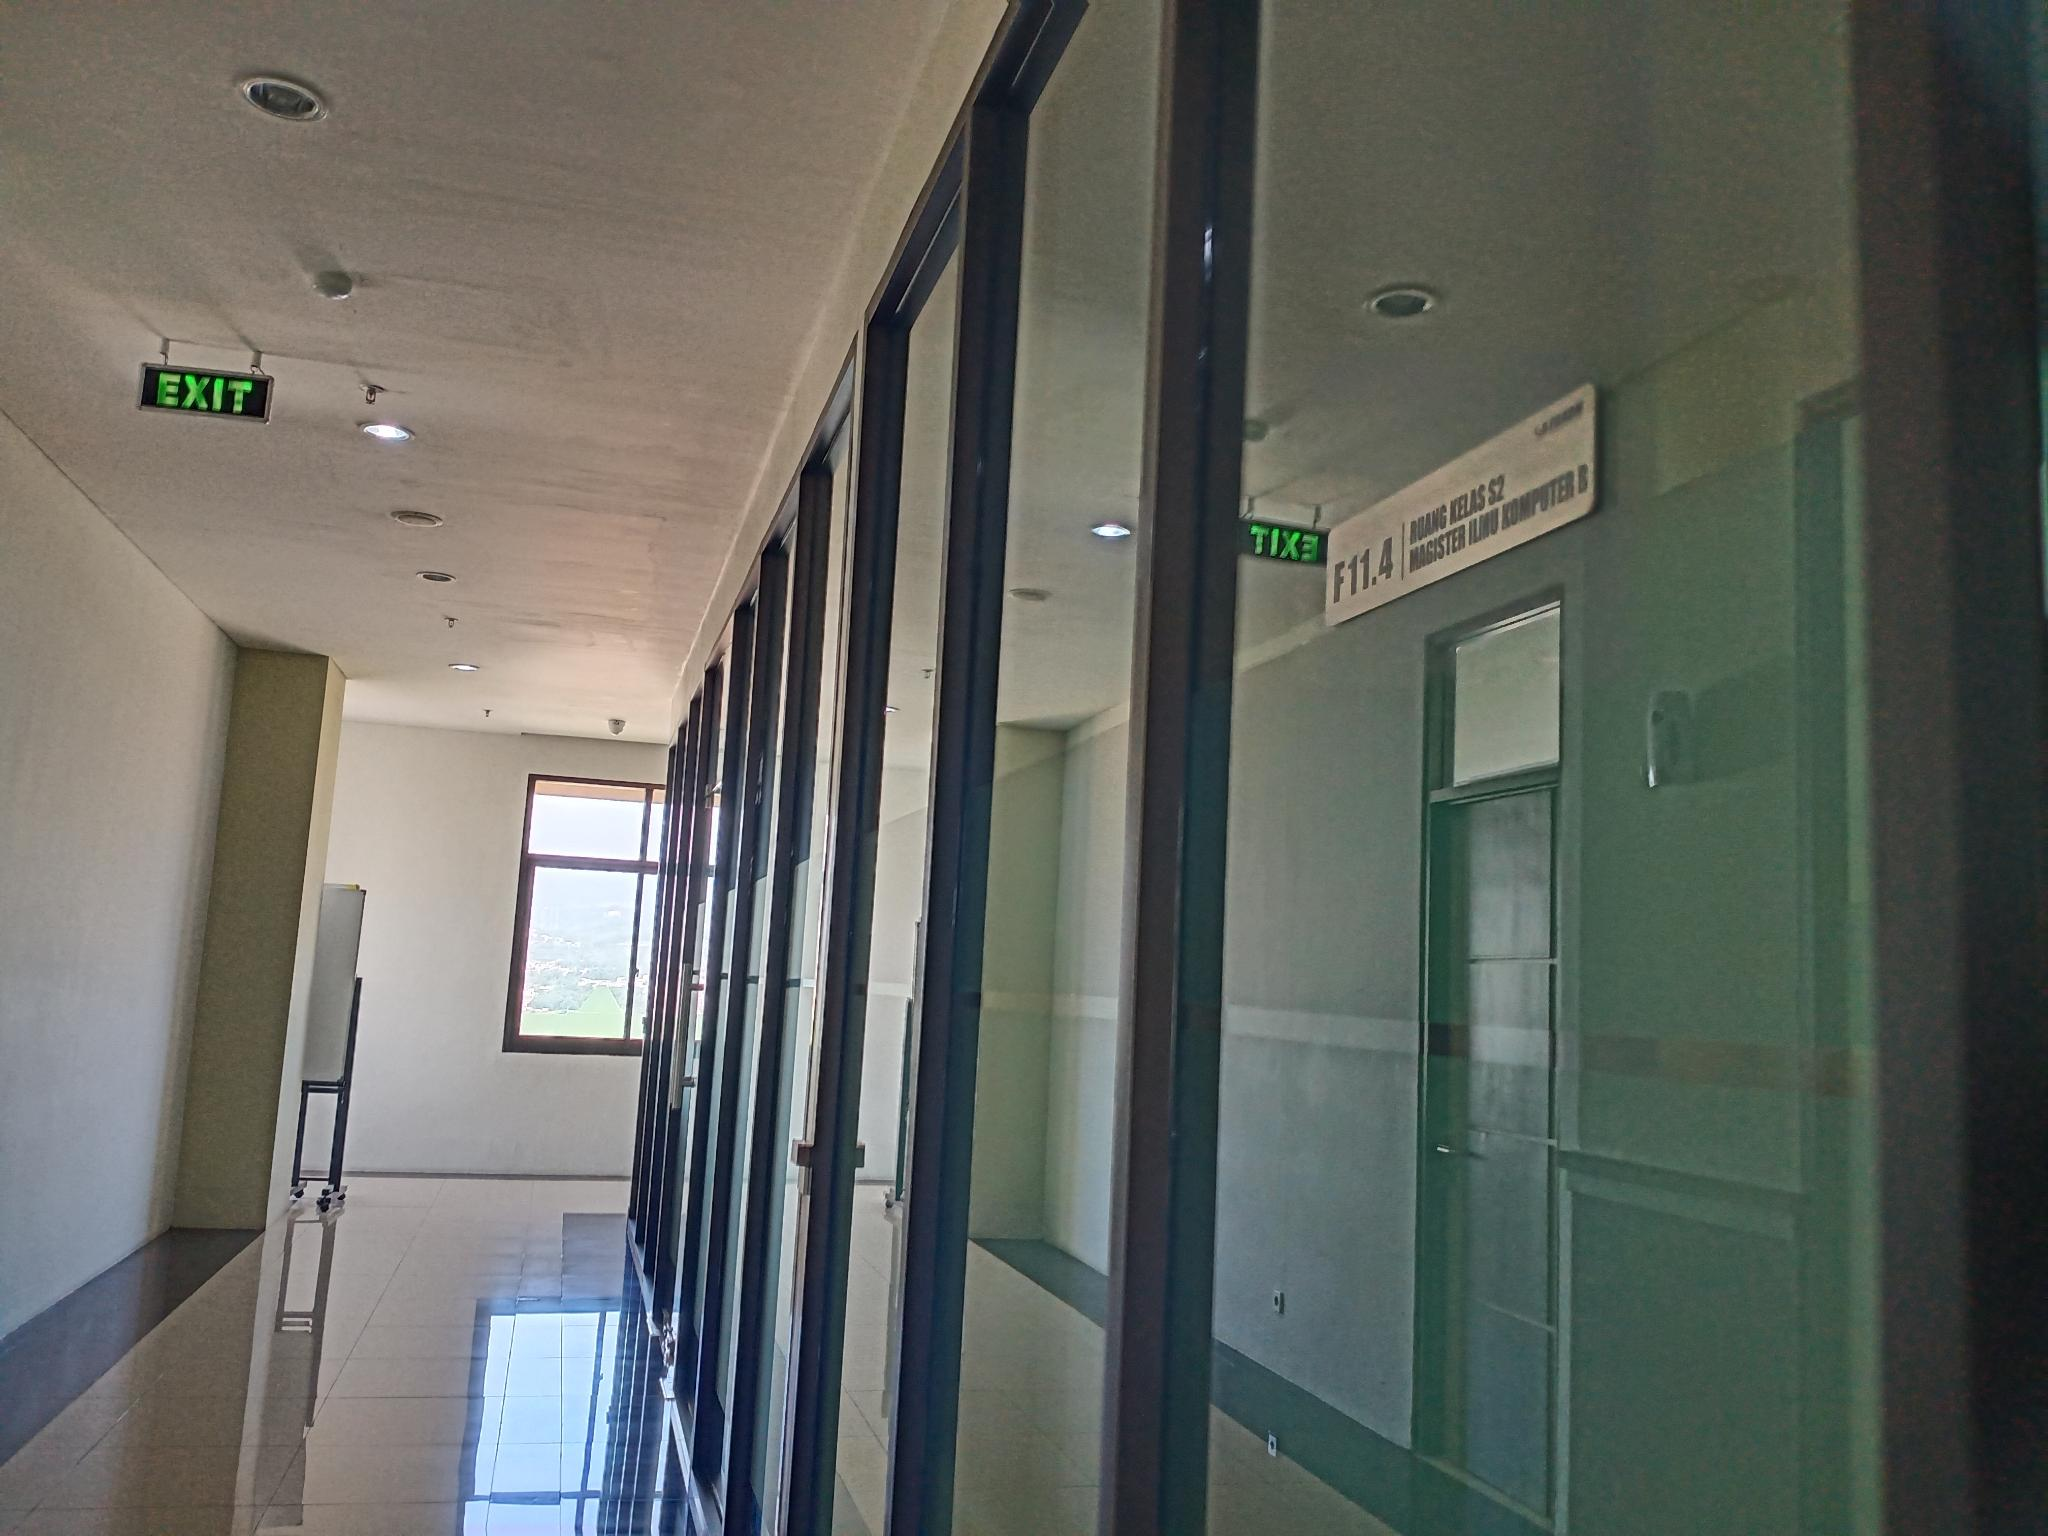plate: (1321, 379, 1601, 632)
